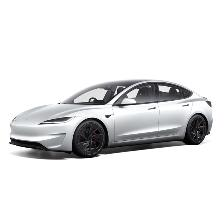EV: (11, 77, 214, 159)
